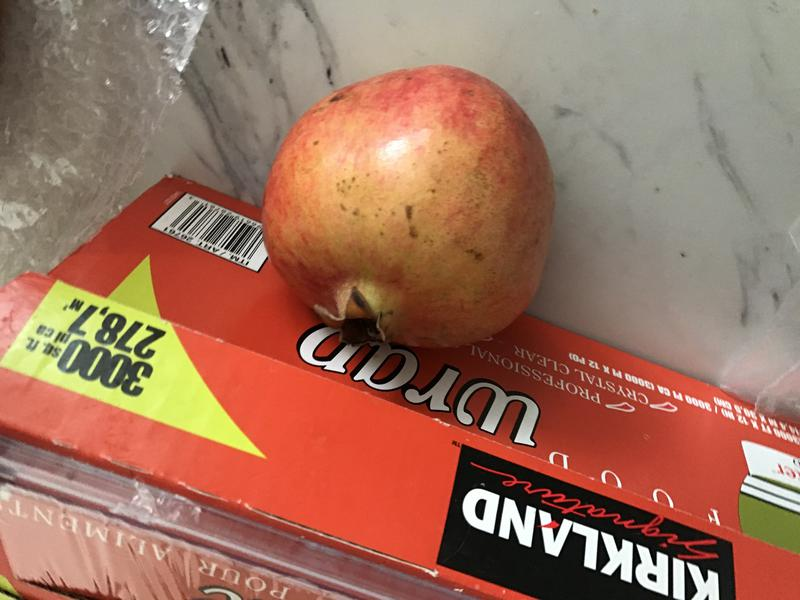pomegranate: (255, 56, 570, 368)
